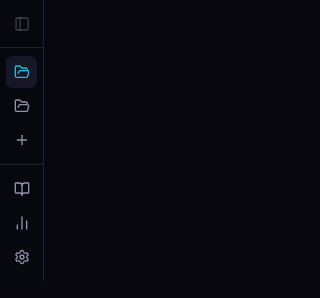
Scenario: ArcSidebar › cycle from unpinned → pinned-open expands and updates label
Click the button named "Pin left sidebar open": click(22, 24) [8,10,36,38]
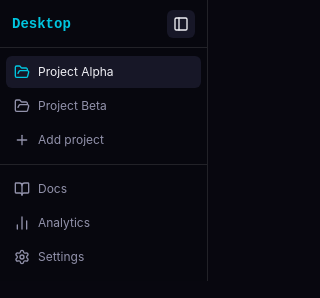
Expected: the text "Desktop" is shown, [12,14,71,34]
Expected: the button named "Collapse left sidebar (keep pinned)" is shown, [167,10,195,38]
